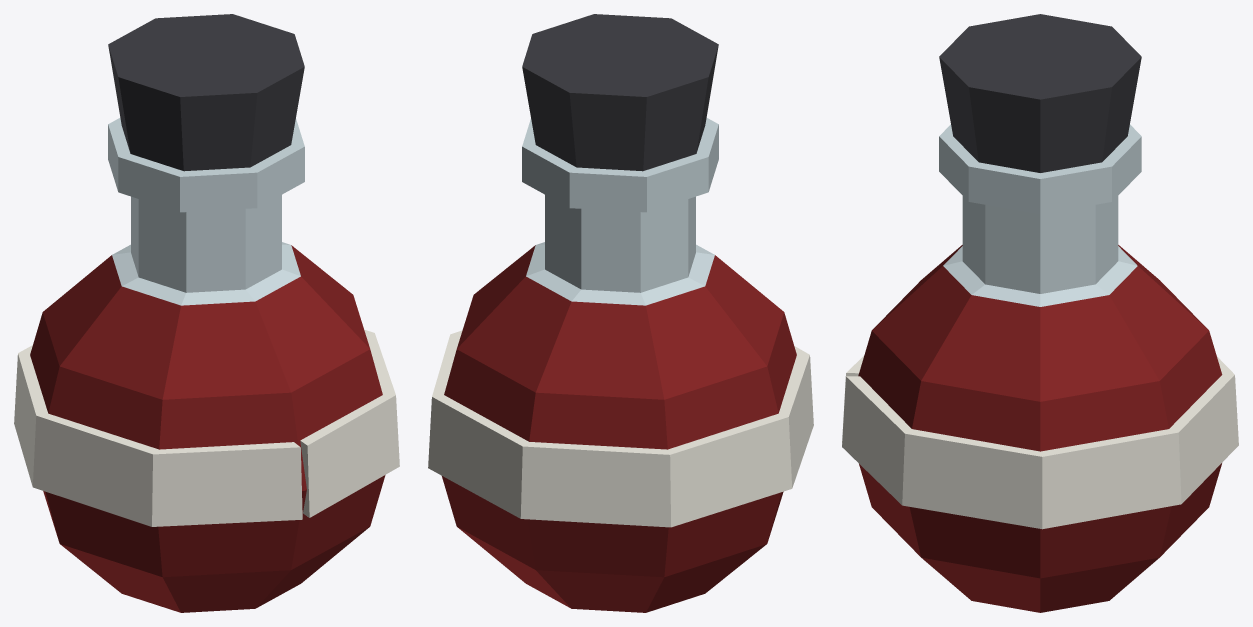
Rendered from vfem2_draught_strength.obj.
3 views of the same model, side by side, from view 1: azimuth 30°, elevation 25°; view 2: azimuth 150°, elevation 25°; view 3: azimuth 270°, elevation 25° (orthographic).
Visible parts, largest first — view 1: vfem2_draught_strength; view 2: vfem2_draught_strength; view 3: vfem2_draught_strength.
Part boxes in pixels (left/top/right/bottom): vfem2_draught_strength: left=14, top=14, right=399, bottom=612; vfem2_draught_strength: left=428, top=14, right=813, bottom=612; vfem2_draught_strength: left=842, top=14, right=1238, bottom=612.
Size of the model in its own units: 0.2037 by 0.305 by 0.2037.
